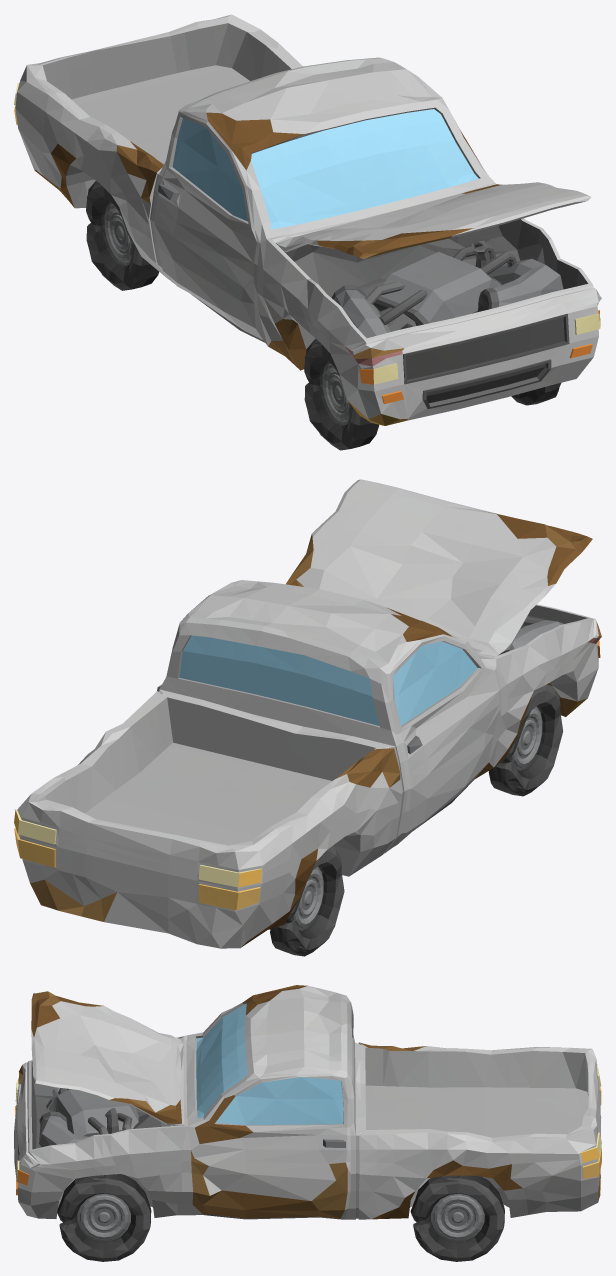
File: pickup_1.obj
3 views of the same model, one above another, from view 1: azimuth 30°, elevation 25°; view 2: azimuth 150°, elevation 25°; view 3: azimuth 270°, elevation 25° (orthographic). The views are drawn at different scales.
Parts seen in each view (by area): view 1: car_Material, engine_Material, car_wheel.005_Material, car_wheel.004_Material, car_wheel.002_Material; view 2: car_Material, car_wheel.005_Material, car_wheel.004_Material, engine_Material; view 3: car_Material, car_wheel.002_Material, car_wheel.003_Material, engine_Material.
Part boxes in pixels (bbox=[...]): car_Material: bbox=[14, 14, 601, 425]; engine_Material: bbox=[331, 244, 563, 338]; car_wheel.005_Material: bbox=[304, 338, 379, 450]; car_wheel.004_Material: bbox=[86, 181, 158, 290]; car_wheel.002_Material: bbox=[511, 382, 561, 405]; car_Material: bbox=[14, 479, 601, 948]; car_wheel.005_Material: bbox=[488, 684, 563, 796]; car_wheel.004_Material: bbox=[270, 846, 344, 956]; engine_Material: bbox=[499, 616, 563, 654]; car_Material: bbox=[14, 985, 601, 1219]; car_wheel.002_Material: bbox=[57, 1174, 151, 1261]; car_wheel.003_Material: bbox=[410, 1175, 504, 1261]; engine_Material: bbox=[33, 1082, 138, 1174].
Size of the model in its own units: 2.08 by 1.93 by 5.08.
